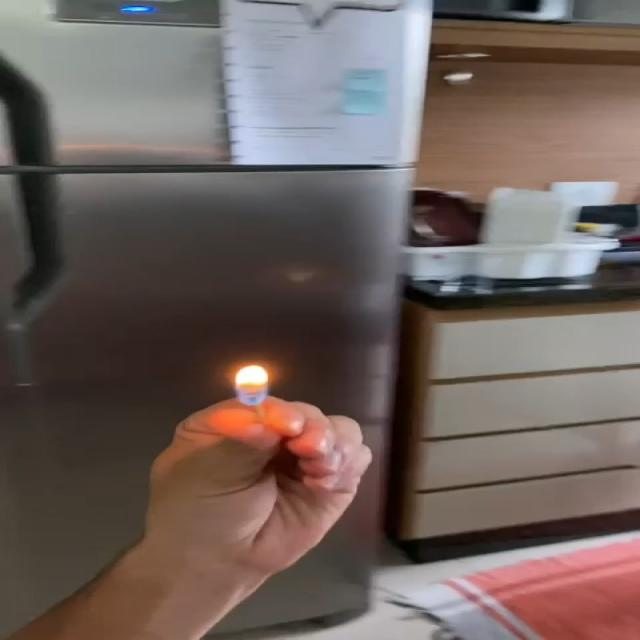fogo-ypXI: (234, 363, 269, 406)
